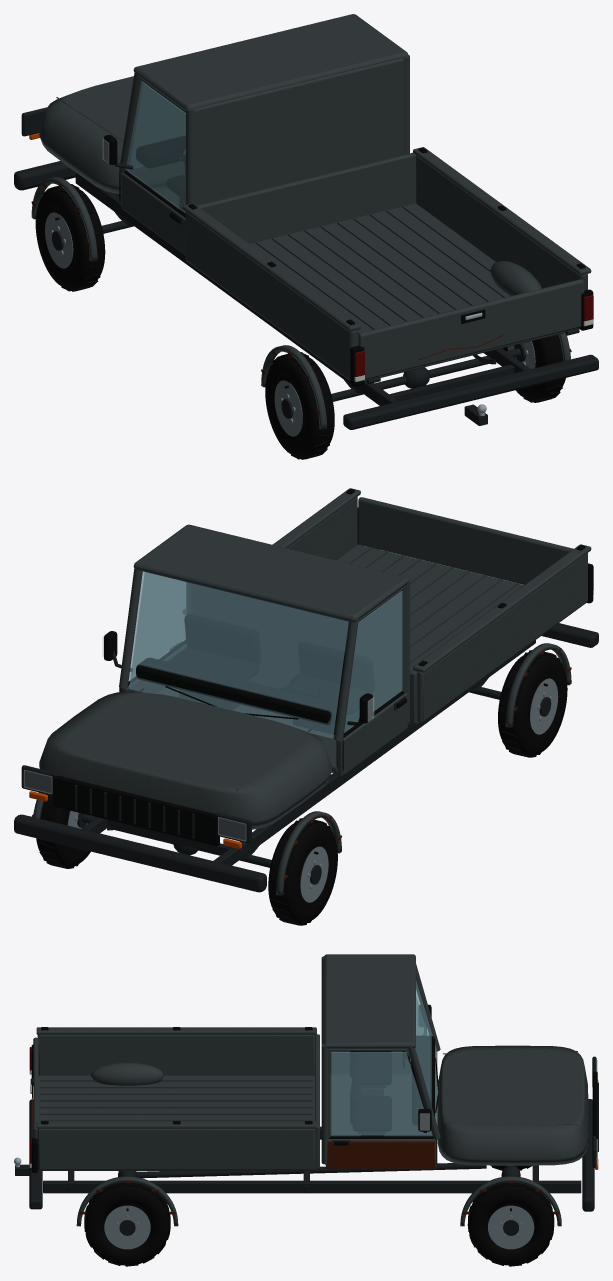
File: RustyPickup.gltf
3 renders of one model, top to bottom at view 1: azimuth 30°, elevation 25°; view 2: azimuth 150°, elevation 25°; view 3: azimuth 270°, elevation 25°, orthographic. The views are drawn at different scales.
Visible parts, largest first — view 1: RustyPickup__Body, RustyPickup__Tailgate, RustyPickup__Wheel_FL, RustyPickup__Wheel_RL, RustyPickup__DriverDoorGlass, RustyPickup__DriverDoor, RustyPickup__Glass_Windshield, RustyPickup__Wheel_RR; view 2: RustyPickup__Body, RustyPickup__Glass_Windshield, RustyPickup__Tailgate, RustyPickup__Wheel_RL, RustyPickup__Wheel_FL, RustyPickup__DriverDoorGlass, RustyPickup, RustyPickup__DriverDoor, RustyPickup__Wheel_FR; view 3: RustyPickup__Body, RustyPickup, RustyPickup__Wheel_RR, RustyPickup__Wheel_FR, RustyPickup__Glass_Windshield, RustyPickup__DriverDoor, RustyPickup__Tailgate.
Part boxes in pixels (bbox=[...]): RustyPickup__Body: bbox=[14, 14, 598, 429]; RustyPickup__Tailgate: bbox=[358, 279, 583, 379]; RustyPickup__Wheel_FL: bbox=[35, 184, 105, 291]; RustyPickup__Wheel_RL: bbox=[265, 352, 334, 459]; RustyPickup__DriverDoorGlass: bbox=[126, 81, 185, 212]; RustyPickup__DriverDoor: bbox=[104, 77, 185, 254]; RustyPickup__Glass_Windshield: bbox=[130, 83, 185, 167]; RustyPickup__Wheel_RR: bbox=[502, 334, 565, 402]; RustyPickup__Body: bbox=[14, 488, 598, 895]; RustyPickup__Glass_Windshield: bbox=[129, 572, 348, 738]; RustyPickup__Tailgate: bbox=[358, 497, 573, 584]; RustyPickup__Wheel_RL: bbox=[498, 650, 567, 757]; RustyPickup__Wheel_FL: bbox=[268, 818, 337, 925]; RustyPickup__DriverDoorGlass: bbox=[344, 591, 402, 732]; RustyPickup: bbox=[129, 571, 186, 679]; RustyPickup__DriverDoor: bbox=[336, 586, 407, 776]; RustyPickup__Wheel_FR: bbox=[36, 794, 91, 868]; RustyPickup__Body: bbox=[14, 954, 598, 1226]; RustyPickup: bbox=[331, 1052, 431, 1135]; RustyPickup__Wheel_RR: bbox=[84, 1182, 170, 1266]; RustyPickup__Wheel_FR: bbox=[467, 1182, 554, 1266]; RustyPickup__Glass_Windshield: bbox=[415, 980, 437, 1125]; RustyPickup__DriverDoor: bbox=[330, 1004, 436, 1074]; RustyPickup__Tailgate: bbox=[30, 1037, 38, 1138].
Size of the model in its own units: 1.99 by 1.86 by 4.53.
3 materials, 1 textured.
